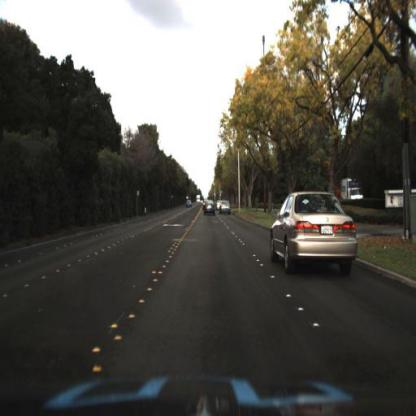car: (268, 184, 360, 278), (200, 196, 220, 220), (219, 193, 237, 219), (215, 198, 223, 214), (187, 198, 194, 208)
truck: (337, 161, 368, 208)
